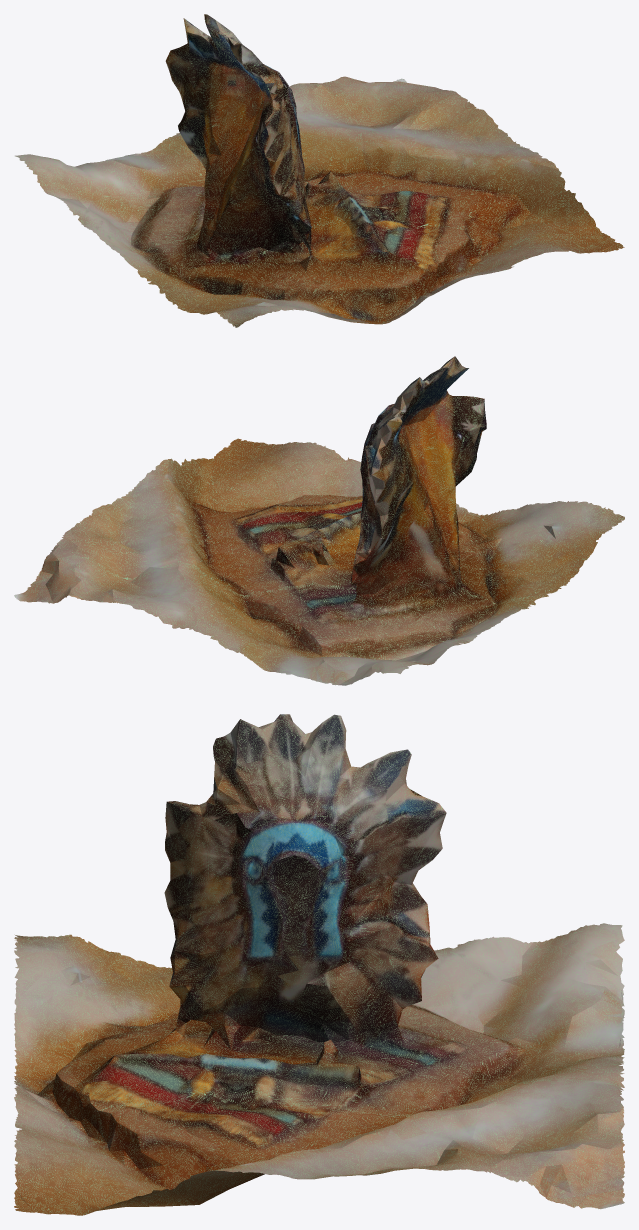
Rendered from cheif.dae.
3 views of the same model, one above another, from view 1: azimuth 30°, elevation 25°; view 2: azimuth 150°, elevation 25°; view 3: azimuth 270°, elevation 25° (orthographic). The views are drawn at different scales.
Visible parts, largest first — view 1: SketchUp (×4); view 2: SketchUp (×5); view 3: SketchUp (×5).
Part boxes in pixels (box(x1,y1,x2,y2)): SketchUp (×4): box(15, 14, 624, 327); SketchUp (×5): box(14, 356, 624, 685); SketchUp (×5): box(14, 714, 624, 1215).
Size of the model in its own units: 26 by 26 by 15.63.
4 materials, 2 textured.
